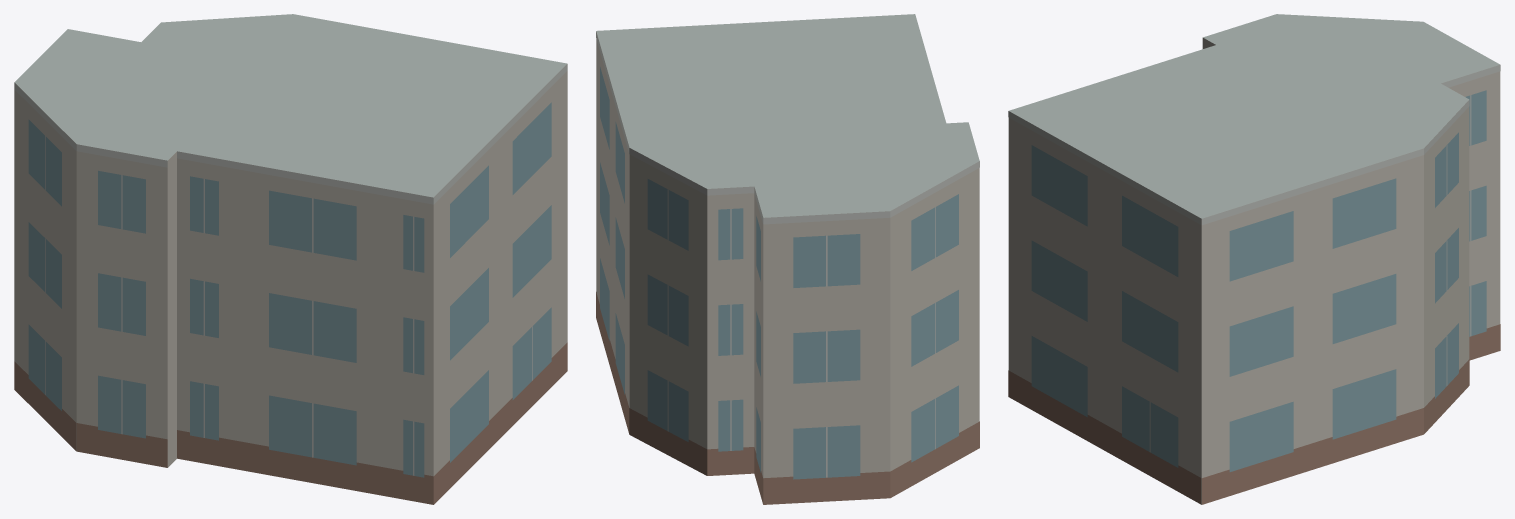
File: survey-upis-32917848.glb
The picture shows the model from 3 angles, left to right: view 1: azimuth 30°, elevation 25°; view 2: azimuth 150°, elevation 25°; view 3: azimuth 270°, elevation 25°; orthographic projection. The views are drawn at different scales.
Parts seen in each view (by area): view 1: survey-upis-32917848.tmp; view 2: survey-upis-32917848.tmp; view 3: survey-upis-32917848.tmp.
Boxes of the visible parts, box(x1,y1,x2,y2) form: survey-upis-32917848.tmp: box(14, 14, 567, 504); survey-upis-32917848.tmp: box(596, 14, 979, 504); survey-upis-32917848.tmp: box(1008, 14, 1500, 504).
Size of the model in its own units: 16.28 by 10.6 by 16.53.
